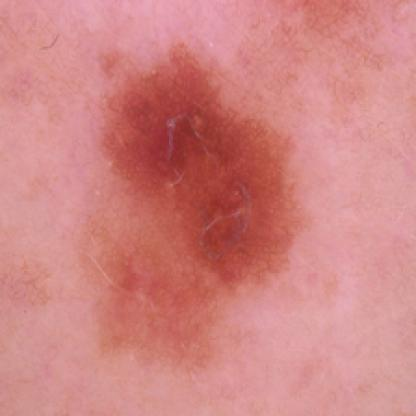benign: (102, 52, 282, 336)
